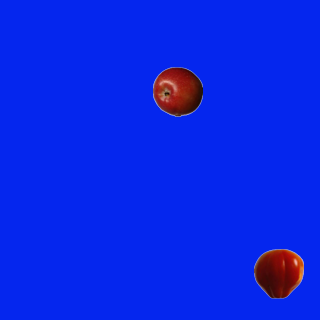Apple Braeburn: (152, 66, 202, 116)
Tomato 1: (253, 248, 303, 298)
